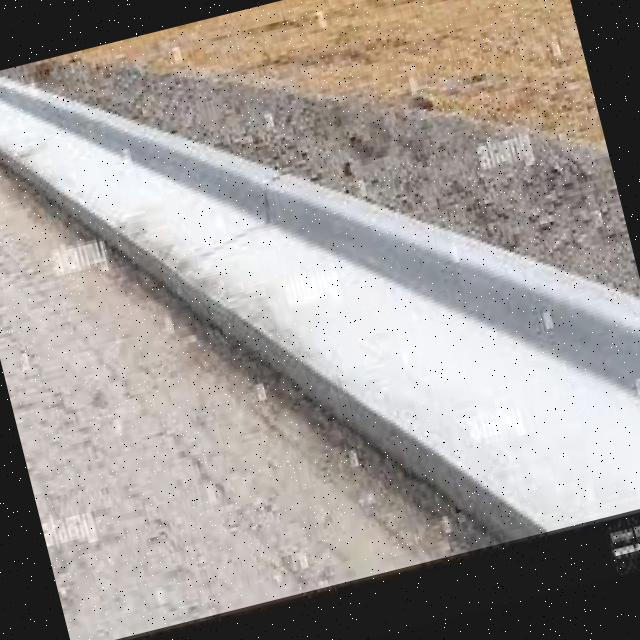curb: (177, 173, 640, 546), (24, 100, 281, 309), (1, 78, 77, 184)
